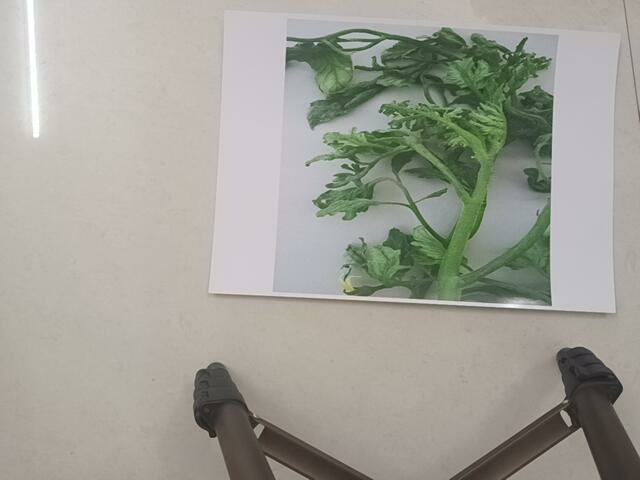Tomamto_Mosaic_virus: (286, 23, 561, 305)
